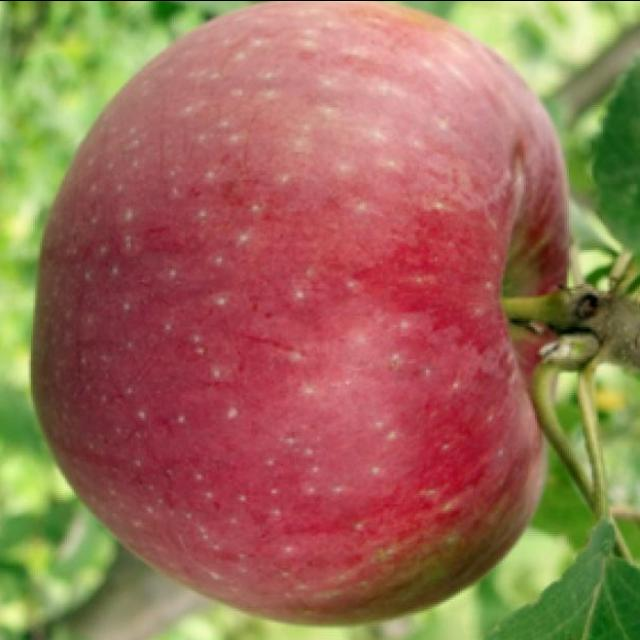apple: (22, 0, 578, 636)
